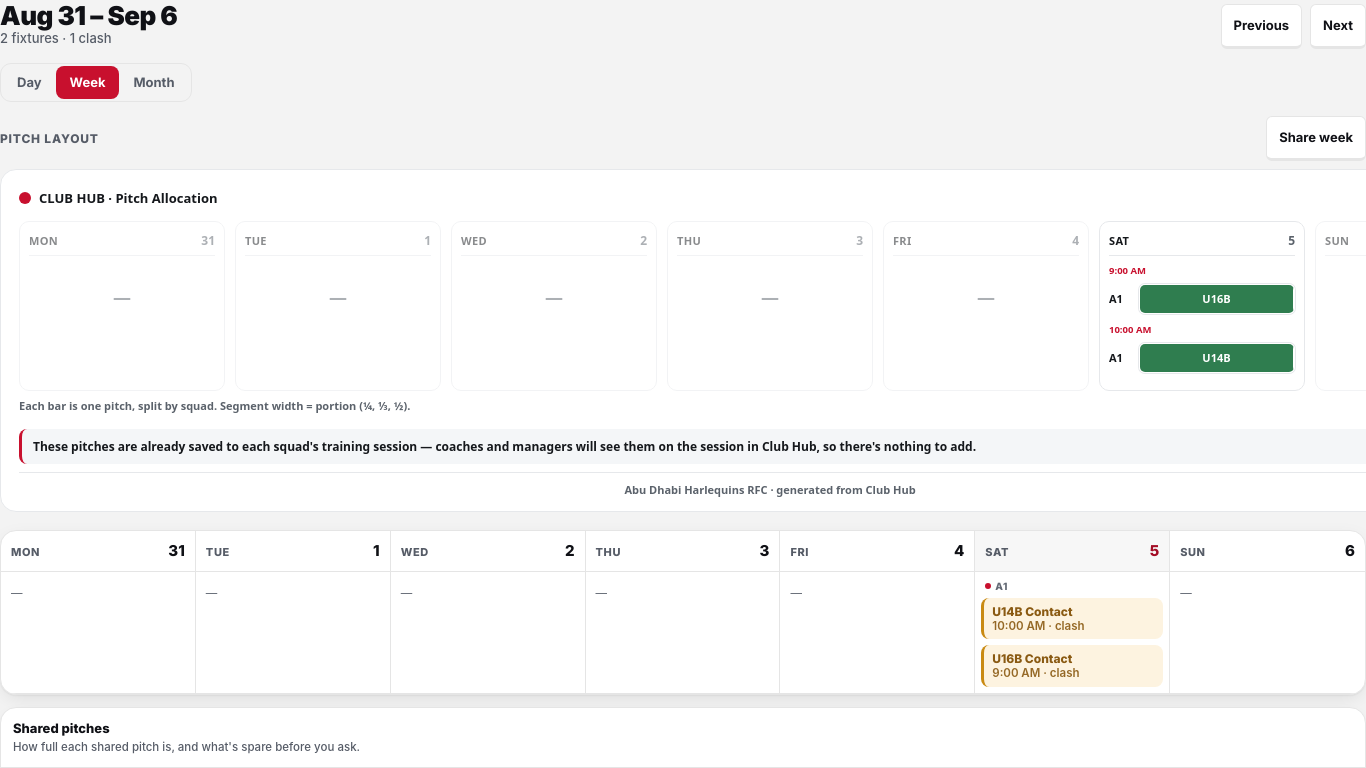
Test case: the screen › ⚠️ marks a clash, and counts it once rather than twice
Click the tab "Day". click: coordinates (29, 83)
box: [3,66,56,99]
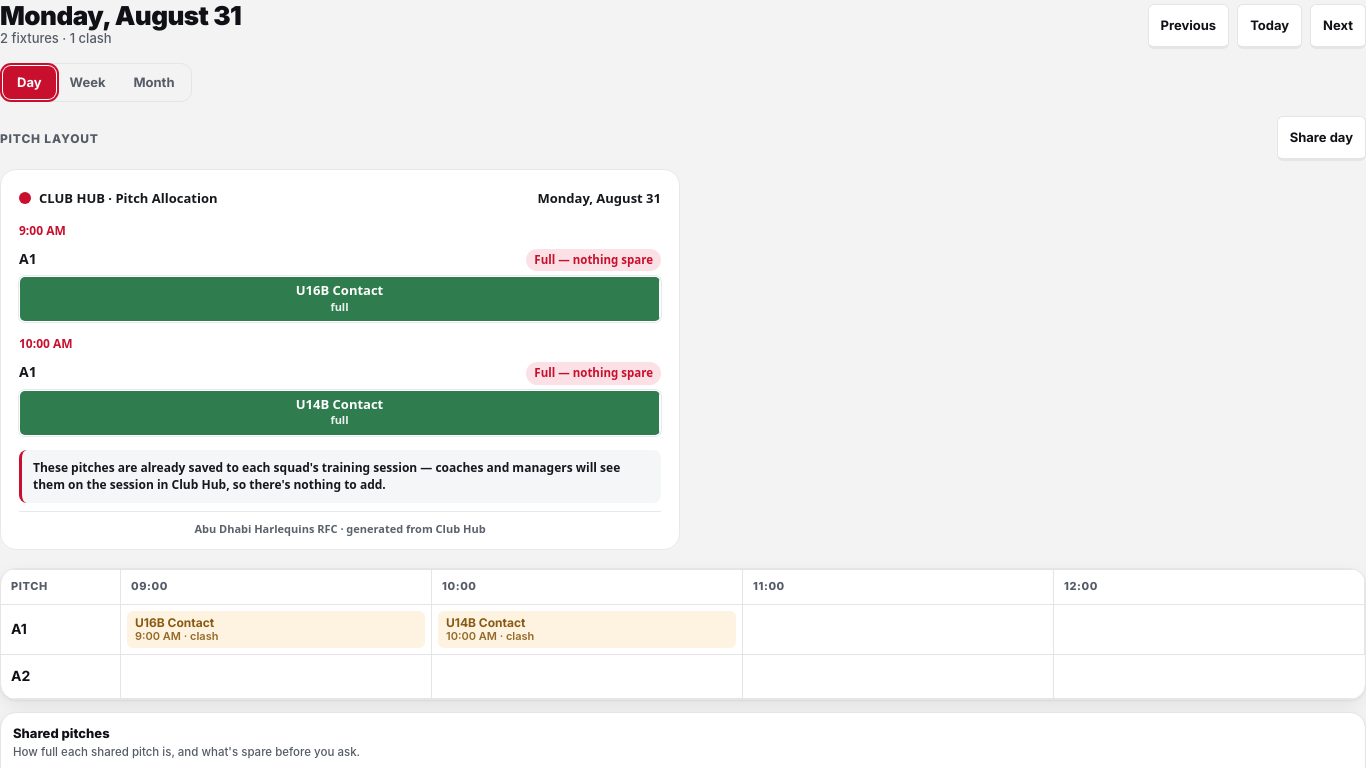
Expected: the text "2 fixtures · 1 clash" is shown, [0,30,112,46]
Result: the number of buttons with test id "booking-clash" is 2 at [127,611,425,648]; [438,611,736,648]
